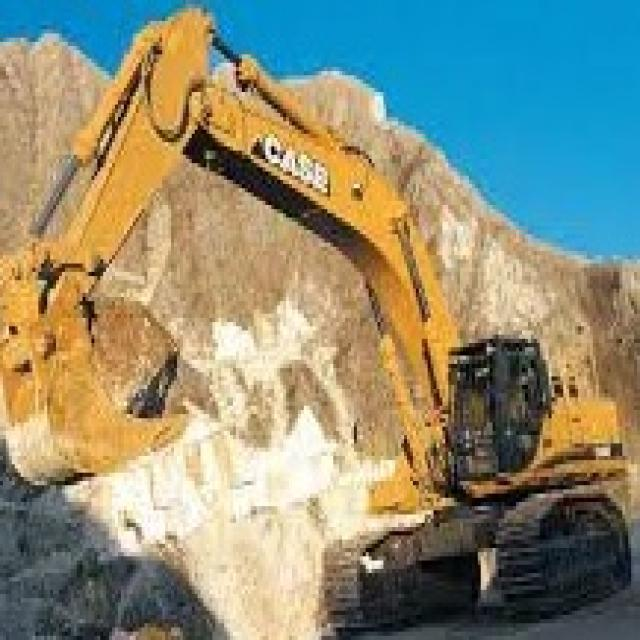excavator: (300, 303, 626, 625)
